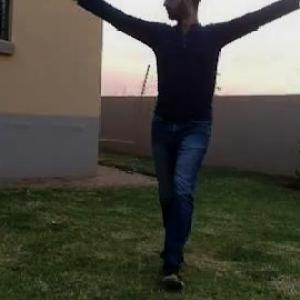takeoff: (61, 0, 299, 296)
